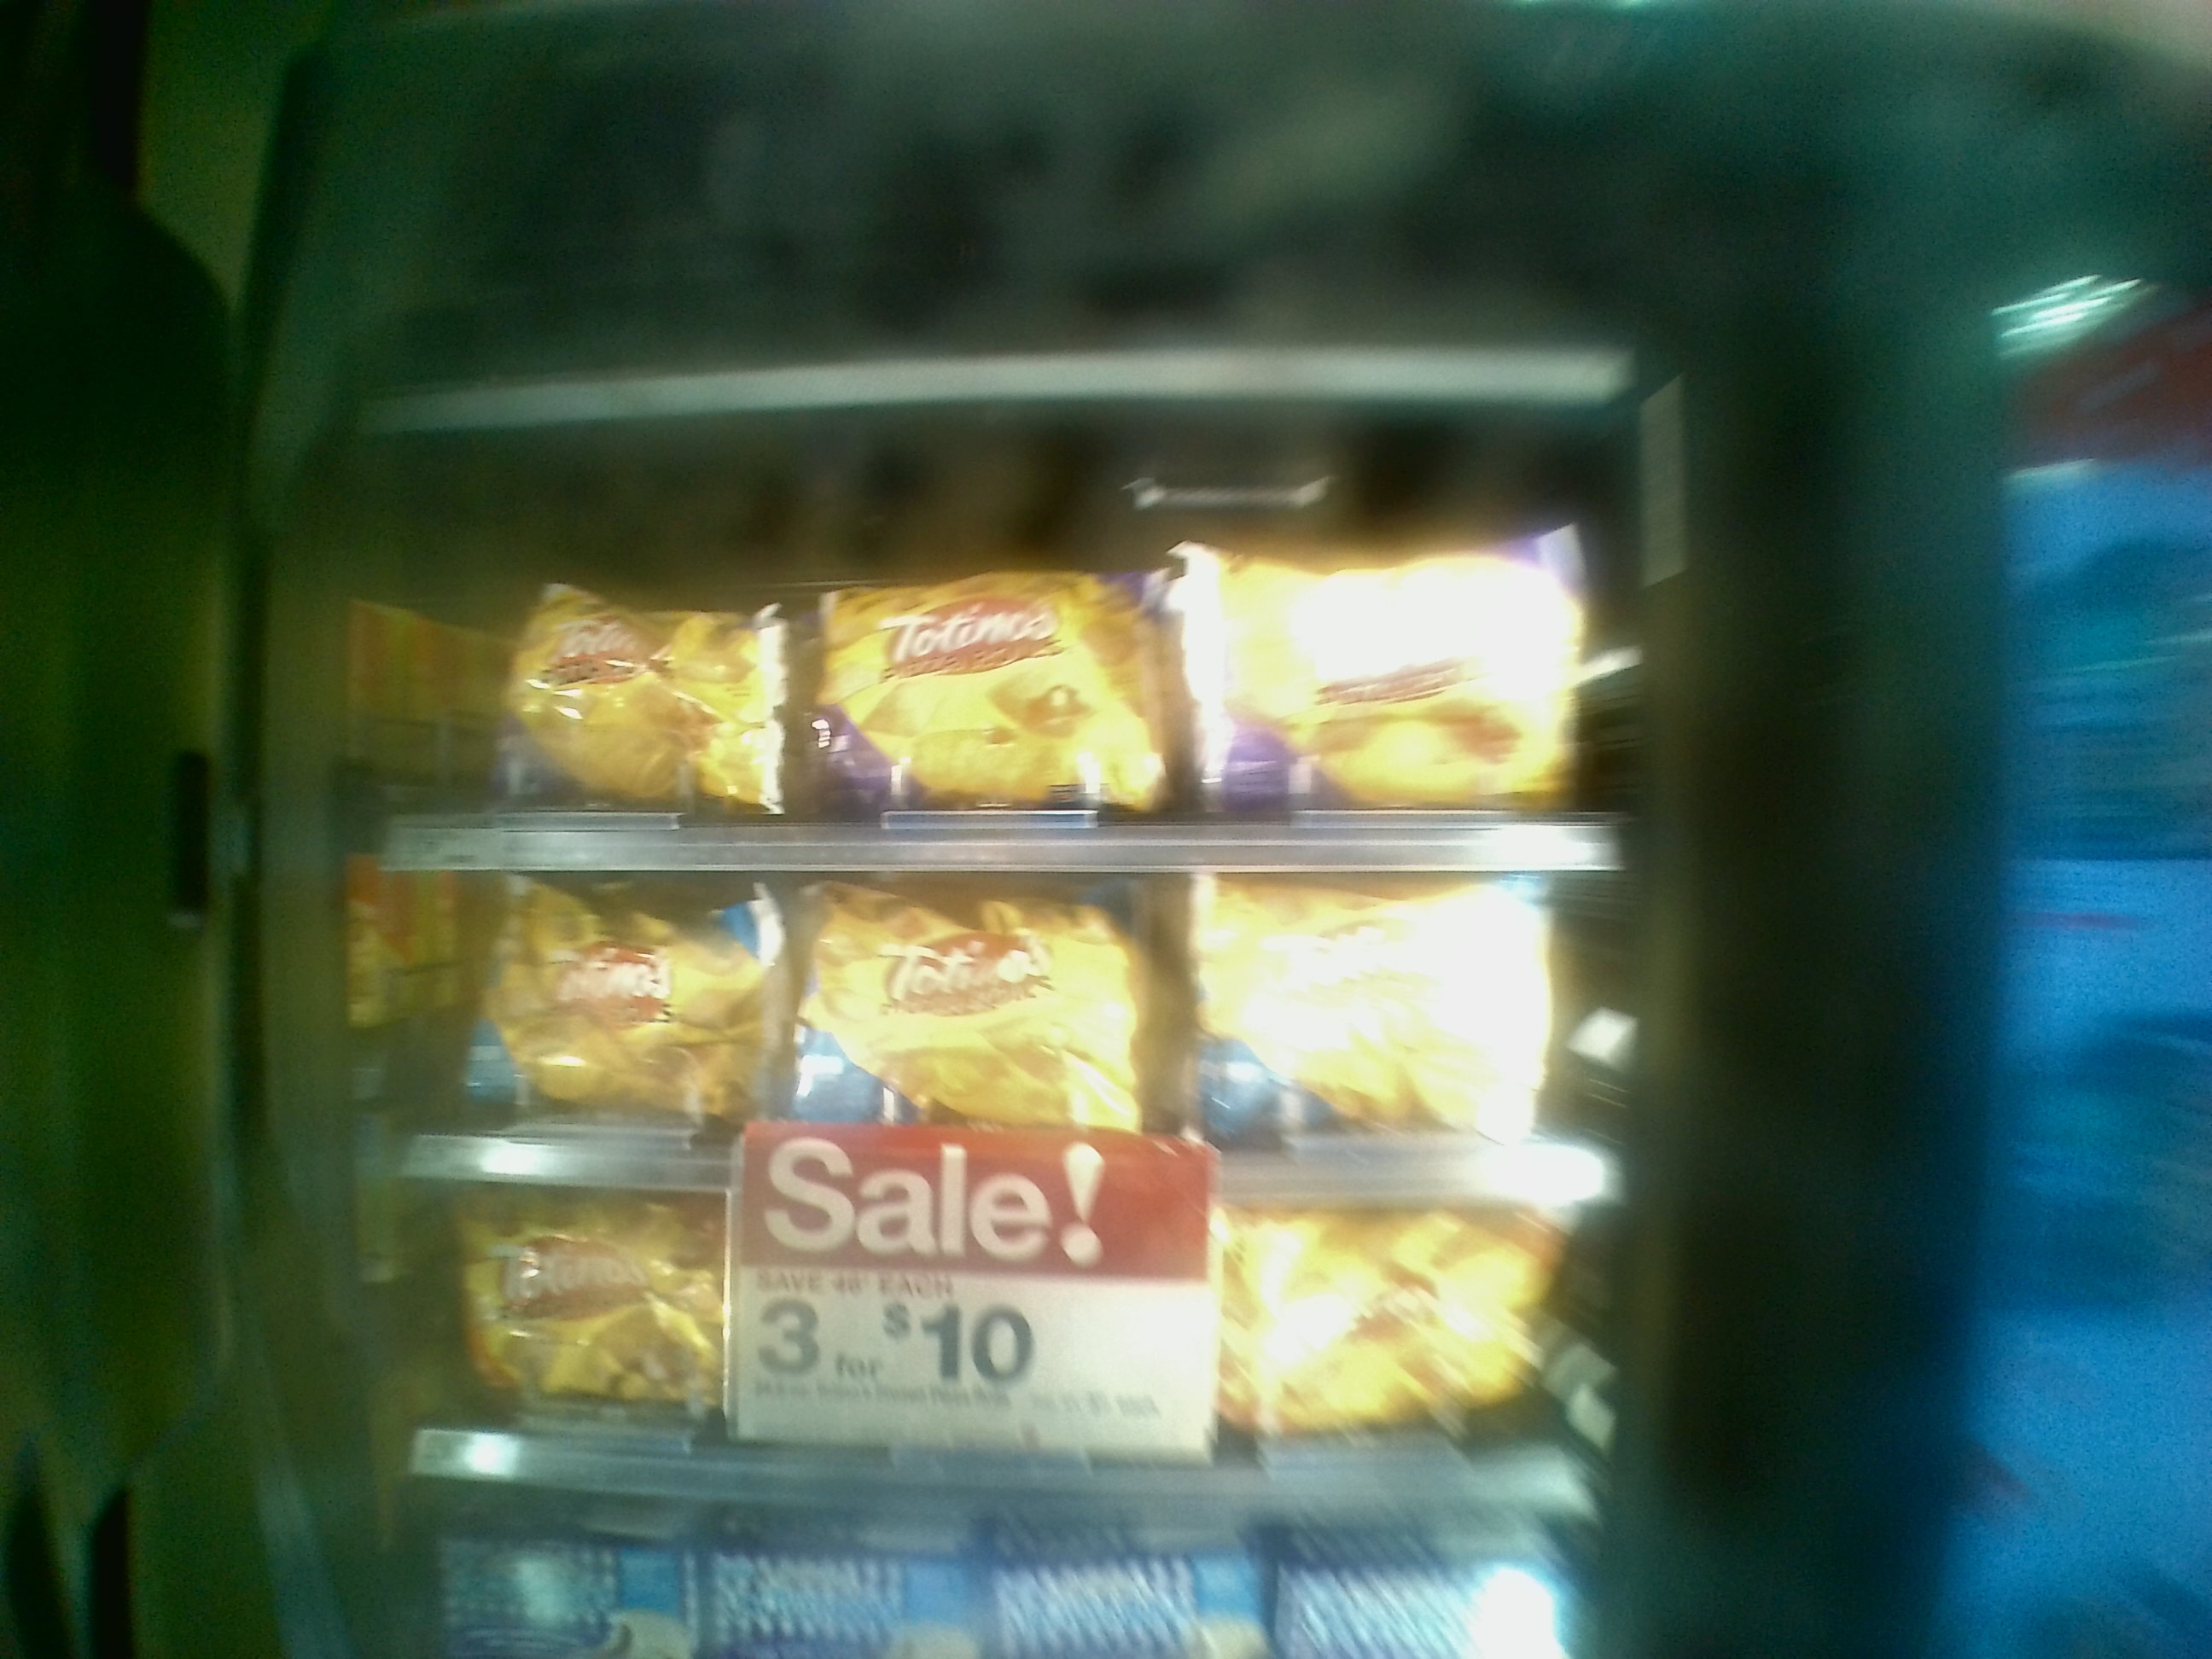shelf: (350, 514, 1622, 877), (333, 864, 1622, 1195), (334, 1182, 1594, 1507)
